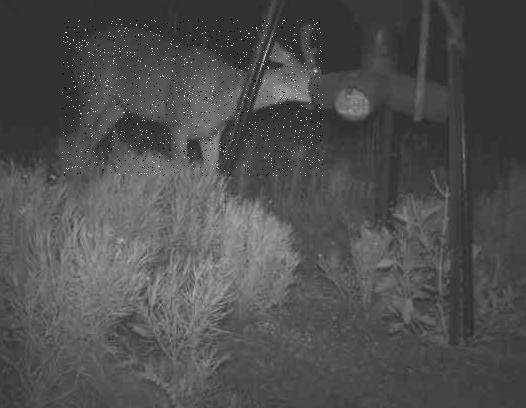Deer: (62, 19, 323, 176)
